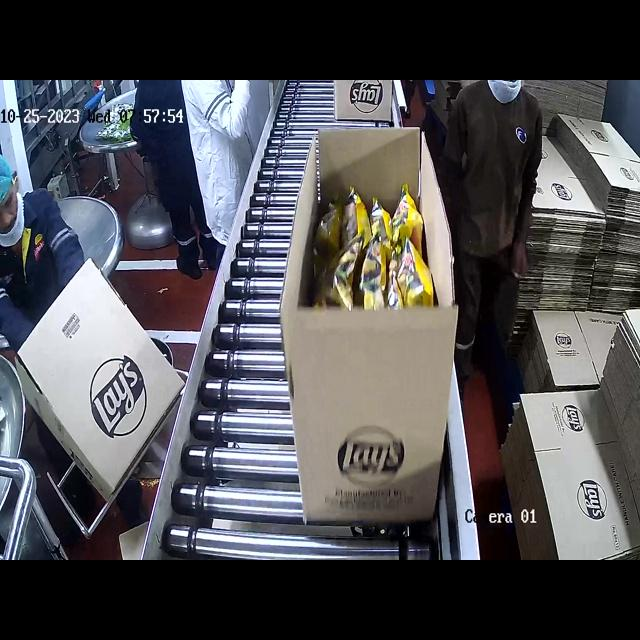salted: (310, 176, 430, 301)
